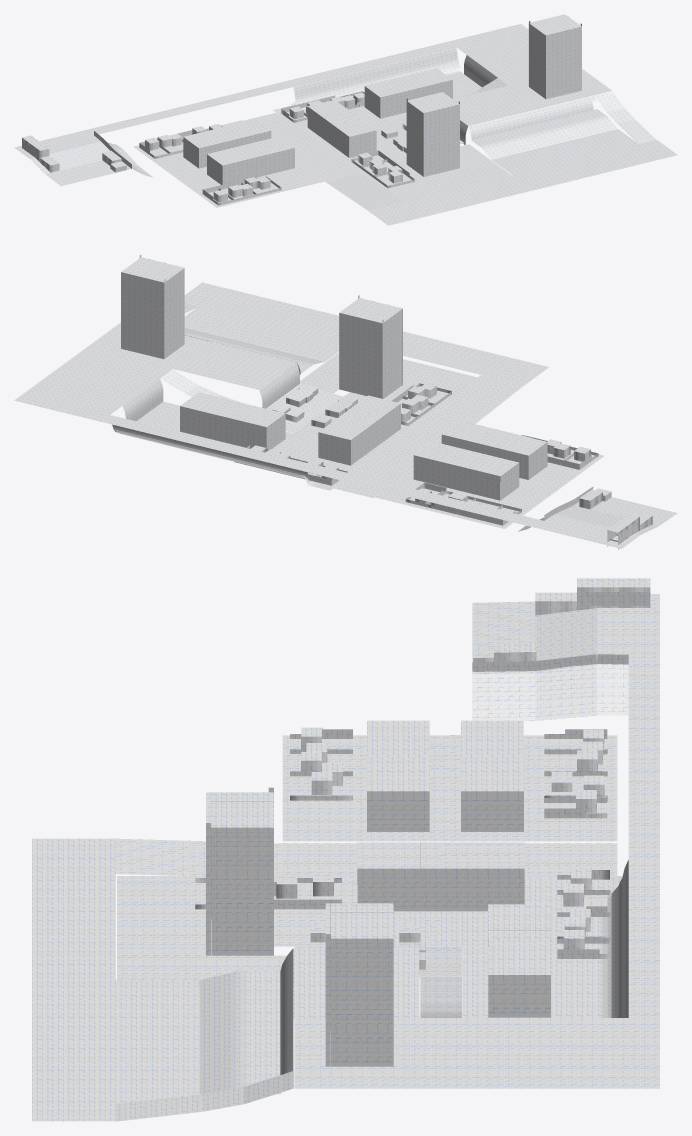
File: City.fbx
3 renders of one model, top to bottom at view 1: azimuth 30°, elevation 25°; view 2: azimuth 150°, elevation 25°; view 3: azimuth 270°, elevation 25°, orthographic. The views are drawn at different scales.
Parts seen in each view (by area): view 1: CivilianBlockBuilding_001; view 2: CivilianBlockBuilding_001; view 3: CivilianBlockBuilding_001.
Part boxes in pixels (left/top/right/bottom): CivilianBlockBuilding_001: left=14, top=14, right=677, bottom=225; CivilianBlockBuilding_001: left=14, top=254, right=677, bottom=549; CivilianBlockBuilding_001: left=32, top=578, right=659, bottom=1121.
Size of the model in its own units: 224 by 35.92 by 120.
